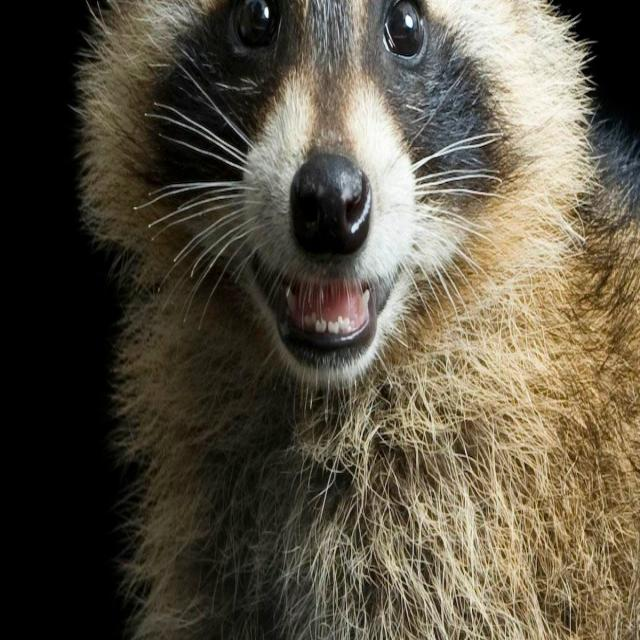raccoon: (76, 0, 640, 639)
